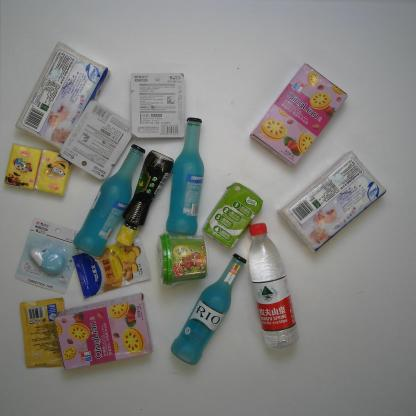Alcohol: (168, 250, 249, 367), (71, 141, 148, 258), (162, 114, 209, 238)
Dessert: (246, 59, 350, 170), (52, 290, 155, 371)
Drink: (243, 220, 304, 354)
Instant Drink: (154, 231, 214, 288)
Milk: (200, 180, 266, 251)
Seasoner: (112, 147, 176, 248), (70, 233, 153, 300), (16, 295, 68, 371)
Stationery: (56, 98, 134, 183), (12, 216, 81, 297), (126, 68, 188, 140)
Tissue: (272, 145, 390, 256), (12, 37, 112, 151), (2, 140, 43, 197), (31, 147, 72, 198)
